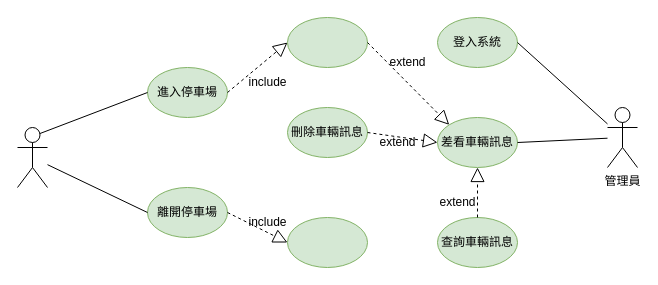
The diagram is 658 pixels wide and 285 high, and some of its shapes have lost their labels. Here are the shapes that lost their labels. From the top down, the centre of each, then its label:
the point at 327,42: 添加車輛訊息
the point at 32,157: 車主
the point at 327,242: 支付費用
